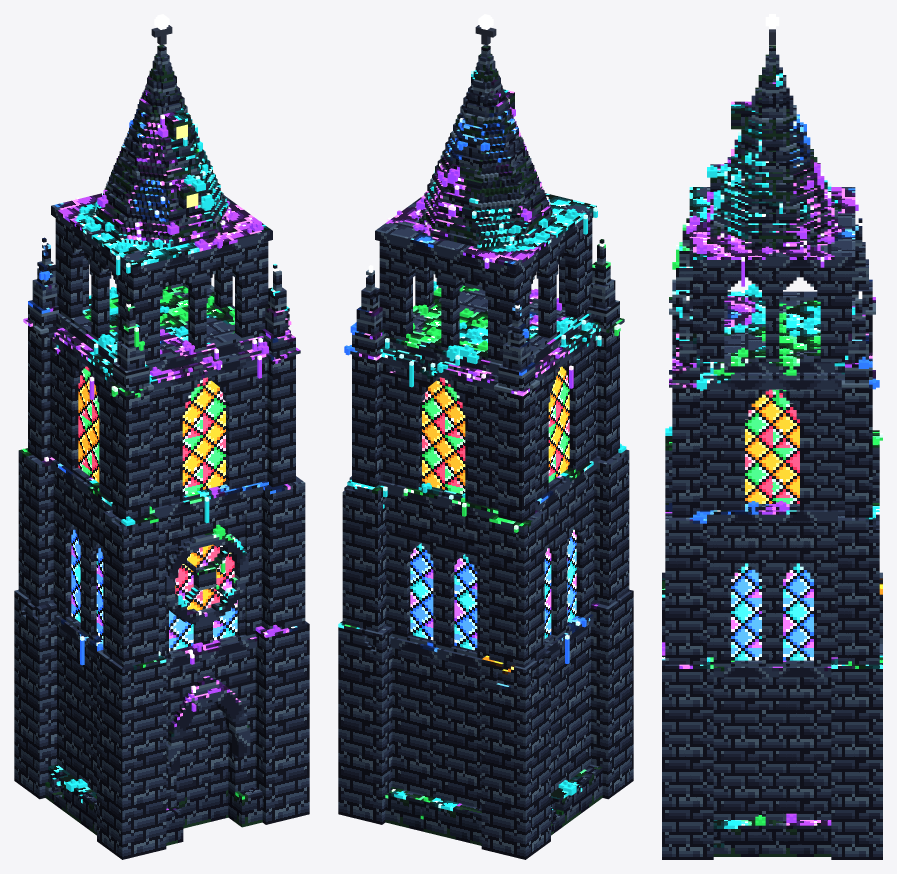
Rendered from cathedral_tower.glb.
3 renders of one model, left to right at view 1: azimuth 30°, elevation 25°; view 2: azimuth 150°, elevation 25°; view 3: azimuth 270°, elevation 25°, orthographic. The views are drawn at different scales.
Visible parts, largest first — view 1: tower; view 2: tower; view 3: tower.
Boxes of the visible parts, x1=… form: tower: x1=14, y1=14, x2=309, y2=859; tower: x1=338, y1=14, x2=633, y2=859; tower: x1=662, y1=14, x2=882, y2=859.
Size of the model in its own units: 4 by 15.94 by 4.
Materials: 18 (18 with a texture image).
